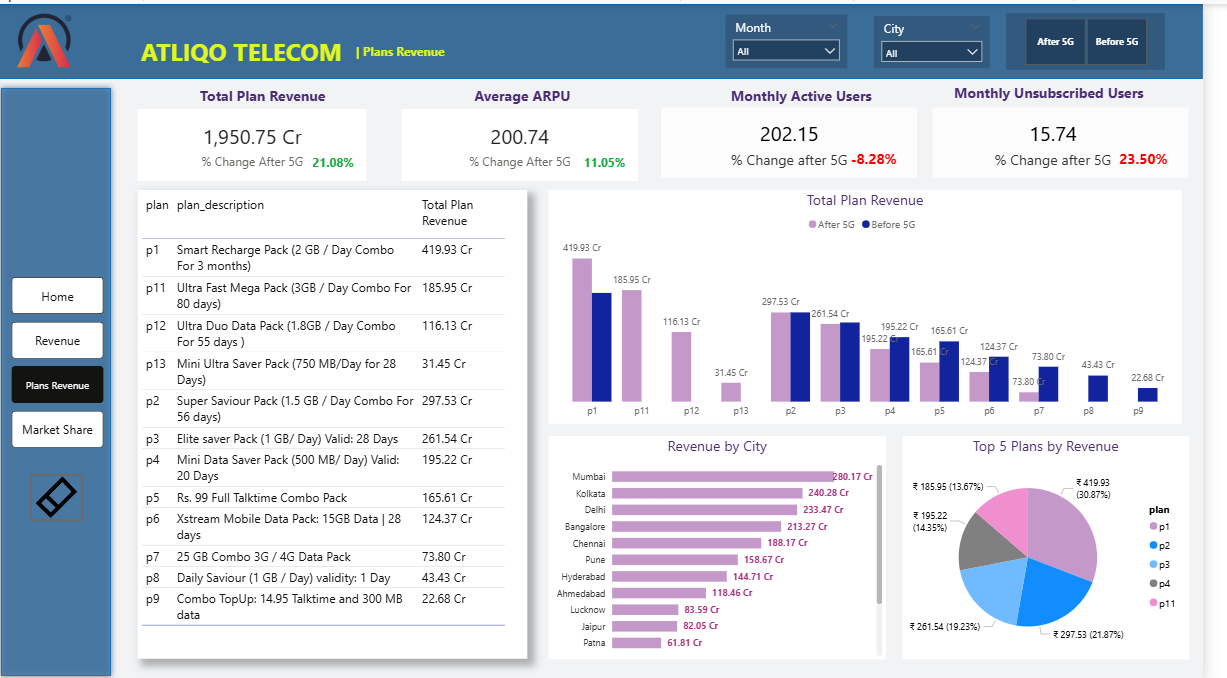

What the dashboard file says about the page in this screenshot:
{"tool":"powerbi","page":{"name":"Plans Revenue","canvas":[1600,900],"ordinal":2},"visuals":[{"type":"card","fields":{"Values":["Key Measures.Total Plan  Scorecard"]},"box":[188.8,138.6,303.6,95.6],"z":0},{"type":"card","fields":{"Values":["Key Measures.AVG ARPU"]},"box":[537.9,138.6,313.1,95.6],"z":1000},{"type":"tableEx","fields":{"Values":["dim_plan.plan","dim_plan.plan_description","Key Measures.Total Plan  Scorecard"]},"box":[188.8,246.2,516.3,621.5],"z":2000},{"type":"clusteredBarChart","title":"Revenue by City","fields":{"Category":["dim_cities.city_name"],"Y":["Key Measures.Total Plan Revenue"]},"box":[733.7,572.6,447.4,296.3],"z":3000},{"type":"pieChart","title":"Top 5 Plans by Revenue","fields":{"Category":["dim_plan.plan"],"Y":["Key Measures.Total Plan Revenue"]},"box":[1202.9,572.6,379.8,296.3],"z":4000},{"type":"clusteredColumnChart","title":"Total Plan Revenue","fields":{"Y":["Key Measures.After 5g TPR","Key Measures.Before 5g TPR"],"Category":["dim_plan.plan"]},"box":[733.7,246.5,839,310.2],"z":5000},{"type":"shape","box":[0,103.4,161.7,795.3],"z":6000},{"type":"shape","box":[1.4,0,1598.6,99.4],"z":7000},{"type":"slicer","fields":{"Values":["dim_date.before/after_5g"]},"box":[1340.1,11.9,210.8,75.6],"z":8000},{"type":"slicer","fields":{"Values":["dim_date.month_name"]},"box":[968.3,13.9,161,71.6],"z":9000},{"type":"slicer","fields":{"Values":["dim_cities.city_name"]},"box":[1165.1,15.9,153.1,69.6],"z":10000},{"type":"image","box":[9.9,5.3,111.3,83.5],"z":11000},{"type":"pageNavigator","box":[22.5,361.9,122.6,228.7],"z":12000},{"type":"multiRowCard","fields":{"Values":["Key Measures.%Change After 5G"]},"box":[415.9,193.6,107.6,52.6],"z":13000},{"type":"multiRowCard","fields":{"Values":["Key Measures.CHG % ARPU"]},"box":[775,193.8,107.8,46.9],"z":14000},{"type":"card","fields":{"Values":["Key Measures.Monthlyy Active users"]},"box":[882.1,136.3,339.4,93.2],"z":15000},{"type":"multiRowCard","fields":{"Values":["Key Measures.CHG % AU"]},"box":[1129.3,186.9,93.4,51.7],"z":16000},{"type":"card","fields":{"Values":["Key Measures.Monthly Unsubscribed User(MUU)"]},"box":[1243,136.3,339.4,93.2],"z":17000},{"type":"multiRowCard","fields":{"Values":["Key Measures.CHG % (UU)"]},"box":[1484.5,186.5,95.6,55],"z":18000},{"type":"textbox","box":[262.5,103.4,184.9,55.7],"z":19000},{"type":"textbox","box":[630.3,103.4,147.1,55.7],"z":20000},{"type":"textbox","box":[948.4,103.4,240.6,55.7],"z":21000},{"type":"textbox","box":[1242.7,99.4,308.2,57.7],"z":22000},{"type":"actionButton","box":[45.7,622.3,71.6,63.6],"z":23000},{"type":"textbox","box":[169,35.8,324.1,53.7],"z":23001},{"type":"textbox","box":[473.2,45.7,137.2,39.8],"z":23002}]}

Visuals, with their boxes on the page's 1600x900 design canvas (x1, y1, x2, y2). These are canvas units, not pixel positions in the 1227x678 screenshot, which may show the page scaled, cropped or inside an application window:
card - Key Measures.Total Plan  Scorecard: box=[189, 139, 492, 234]
card - Key Measures.AVG ARPU: box=[538, 139, 851, 234]
tableEx - dim_plan.plan x dim_plan.plan_description: box=[189, 246, 705, 868]
"Revenue by City" clusteredBarChart: box=[734, 573, 1181, 869]
"Top 5 Plans by Revenue" pieChart: box=[1203, 573, 1583, 869]
"Total Plan Revenue" clusteredColumnChart: box=[734, 246, 1573, 557]
shape: box=[0, 103, 162, 899]
shape: box=[1, 0, 1600, 99]
slicer - dim_date.before/after_5g: box=[1340, 12, 1551, 88]
slicer - dim_date.month_name: box=[968, 14, 1129, 86]
slicer - dim_cities.city_name: box=[1165, 16, 1318, 86]
image: box=[10, 5, 121, 89]
pageNavigator: box=[22, 362, 145, 591]
multiRowCard - Key Measures.%Change After 5G: box=[416, 194, 524, 246]
multiRowCard - Key Measures.CHG % ARPU: box=[775, 194, 883, 241]
card - Key Measures.Monthlyy Active users: box=[882, 136, 1222, 230]
multiRowCard - Key Measures.CHG % AU: box=[1129, 187, 1223, 239]
card - Key Measures.Monthly Unsubscribed User(MUU): box=[1243, 136, 1582, 230]
multiRowCard - Key Measures.CHG % (UU): box=[1484, 186, 1580, 242]
textbox: box=[262, 103, 447, 159]
textbox: box=[630, 103, 777, 159]
textbox: box=[948, 103, 1189, 159]
textbox: box=[1243, 99, 1551, 157]
actionButton: box=[46, 622, 117, 686]
textbox: box=[169, 36, 493, 90]
textbox: box=[473, 46, 610, 86]
